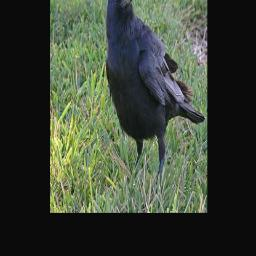Crow: (106, 0, 206, 189)
